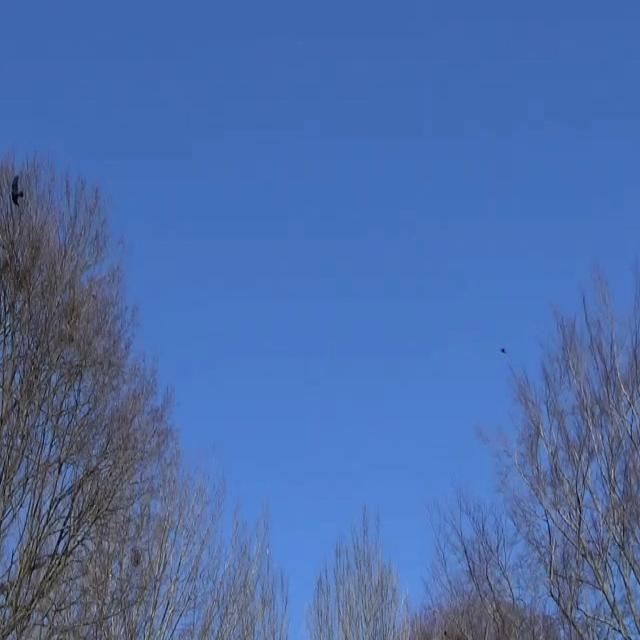bird: (7, 174, 23, 211), (497, 344, 509, 356)
